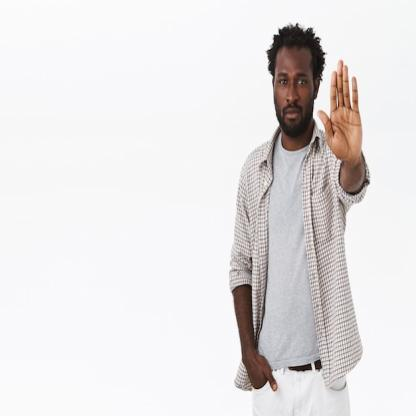stop: (314, 60, 364, 166)
